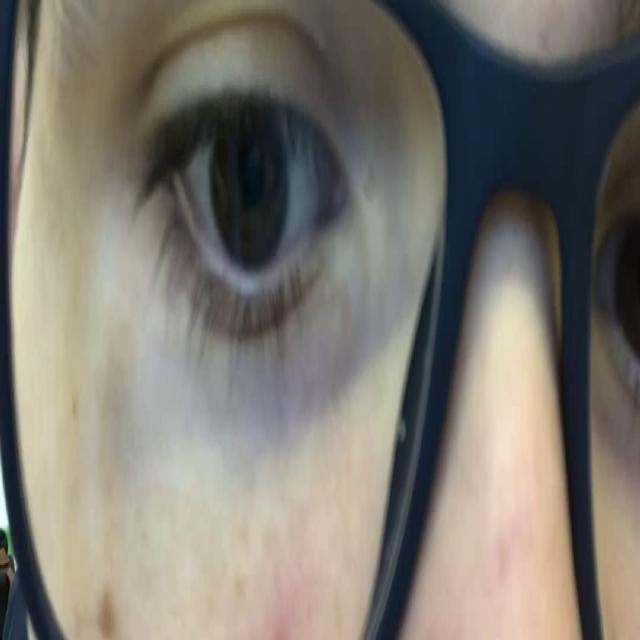eye: (137, 55, 371, 382)
gaze: (208, 97, 292, 280)
